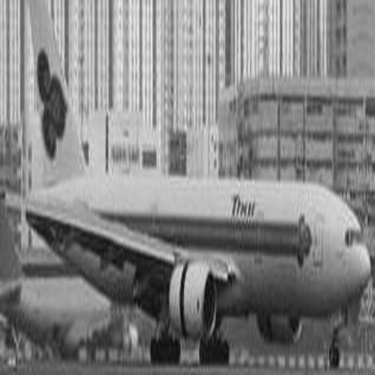airplane: (5, 4, 369, 372)
